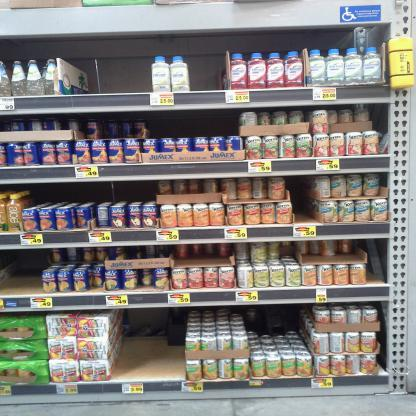Void: (116, 317, 186, 375), (78, 42, 152, 94), (186, 37, 226, 90), (31, 184, 149, 200), (164, 112, 230, 137), (5, 252, 42, 291), (256, 307, 299, 332), (286, 176, 311, 218), (375, 241, 390, 288)
